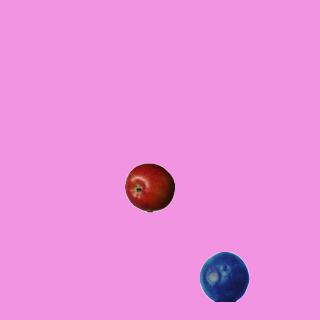Apple Braeburn: (124, 162, 174, 212)
Huckleberry: (199, 251, 249, 301)
